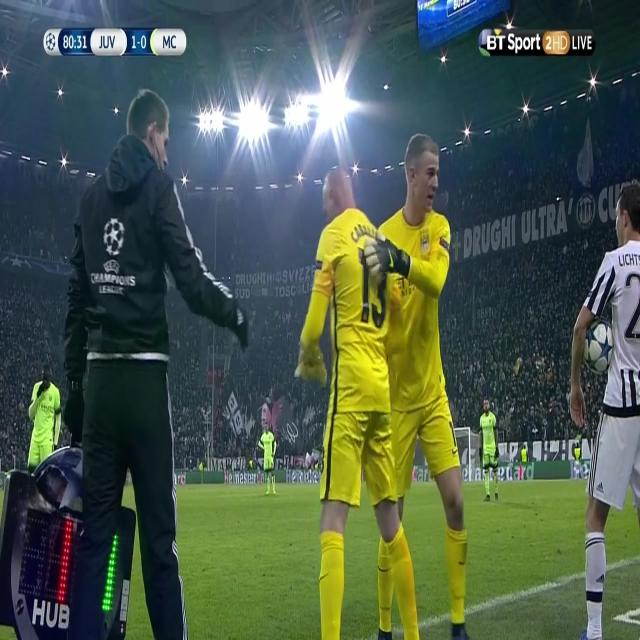Ball: (580, 314, 614, 380)
Player: (296, 163, 419, 640), (377, 131, 472, 638), (569, 178, 640, 638), (26, 360, 62, 471), (475, 395, 501, 502), (258, 421, 280, 496)
